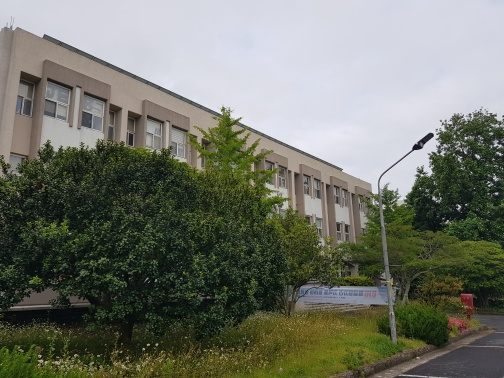Main Building of University: (18, 29, 379, 287), (262, 135, 369, 244)
